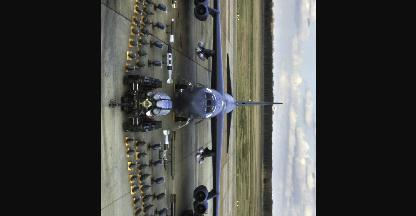B2: (172, 0, 283, 213)
